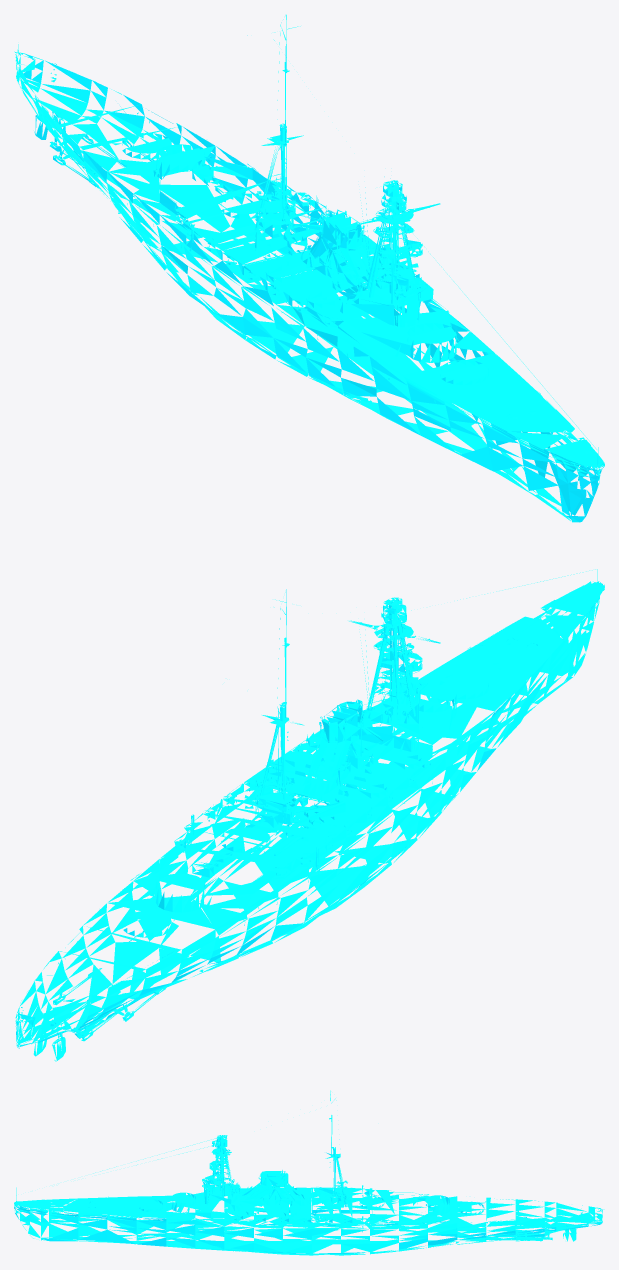
Rendered from Ashitaka.glb.
3 renders of one model, top to bottom at view 1: azimuth 30°, elevation 25°; view 2: azimuth 150°, elevation 25°; view 3: azimuth 270°, elevation 25°, orthographic. The views are drawn at different scales.
Bounding box in the file's own units: 2.17 × 4.74 × 16.87.
